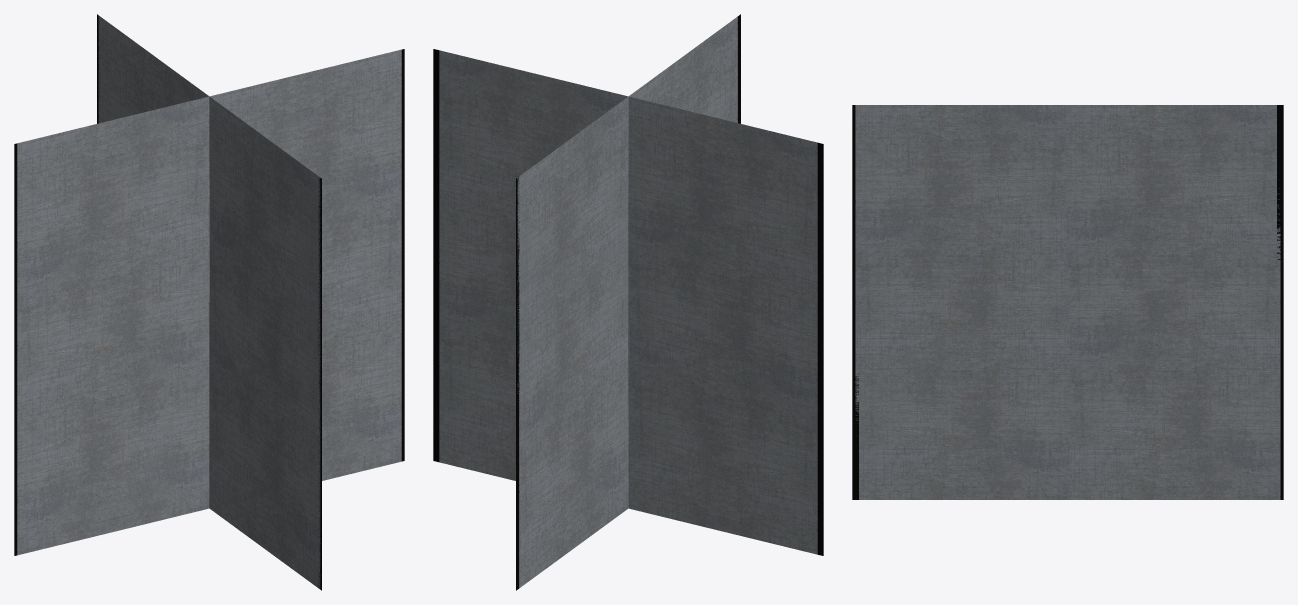
File: tree_1.FBX
3 views of the same model, side by side, from view 1: azimuth 30°, elevation 25°; view 2: azimuth 150°, elevation 25°; view 3: azimuth 270°, elevation 25° (orthographic). The views are drawn at different scales.
Parts seen in each view (by area): view 1: Plane001, Plane008, Plane009, Plane004; view 2: Plane008, Plane001, Plane004, Plane009; view 3: Plane004, Plane009.
Boxes of the visible parts, bbox=[...] form: Plane001: bbox=[14, 63, 347, 555]; Plane008: bbox=[82, 49, 404, 538]; Plane009: bbox=[97, 14, 321, 589]; Plane004: bbox=[97, 56, 321, 590]; Plane008: bbox=[518, 70, 823, 555]; Plane001: bbox=[433, 49, 752, 538]; Plane004: bbox=[516, 172, 628, 590]; Plane009: bbox=[516, 14, 740, 405]; Plane004: bbox=[852, 105, 1283, 498]; Plane009: bbox=[852, 180, 1283, 499].
Size of the model in its own units: 165 by 167 by 165.
